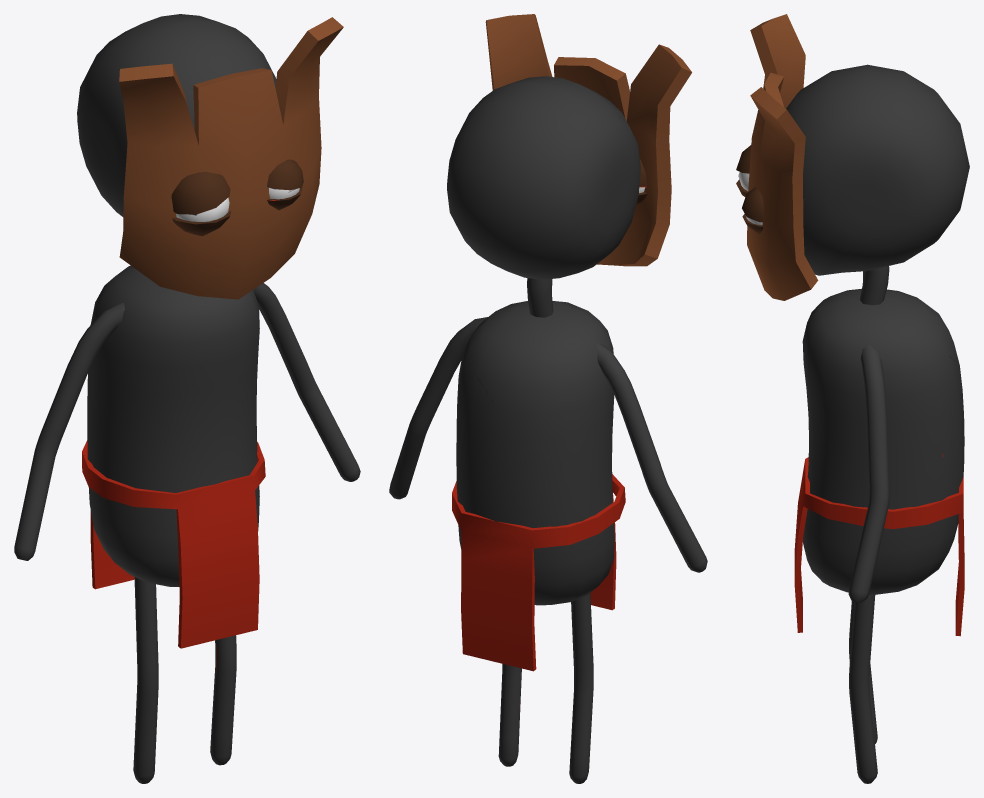
File: SK_Enemy.glb
3 views of the same model, side by side, from view 1: azimuth 30°, elevation 25°; view 2: azimuth 150°, elevation 25°; view 3: azimuth 270°, elevation 25° (orthographic). The views are drawn at different scales.
Visible parts, largest first — view 1: Cube; view 2: Cube; view 3: Cube.
Boxes of the visible parts, left/top/right/bottom form: Cube: left=14, top=14, right=360, bottom=783; Cube: left=389, top=14, right=707, bottom=783; Cube: left=736, top=14, right=969, bottom=783.
Size of the model in its own units: 3.58 by 7.64 by 2.29.
1 material, 1 textured.
